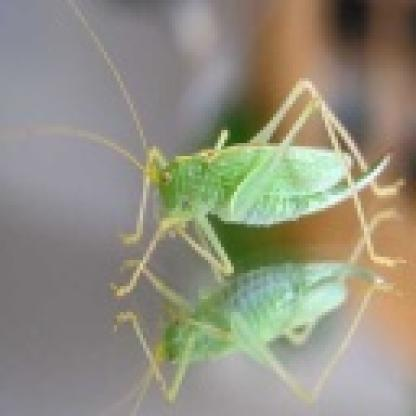grasshopper: (124, 74, 394, 235), (122, 240, 392, 390)
